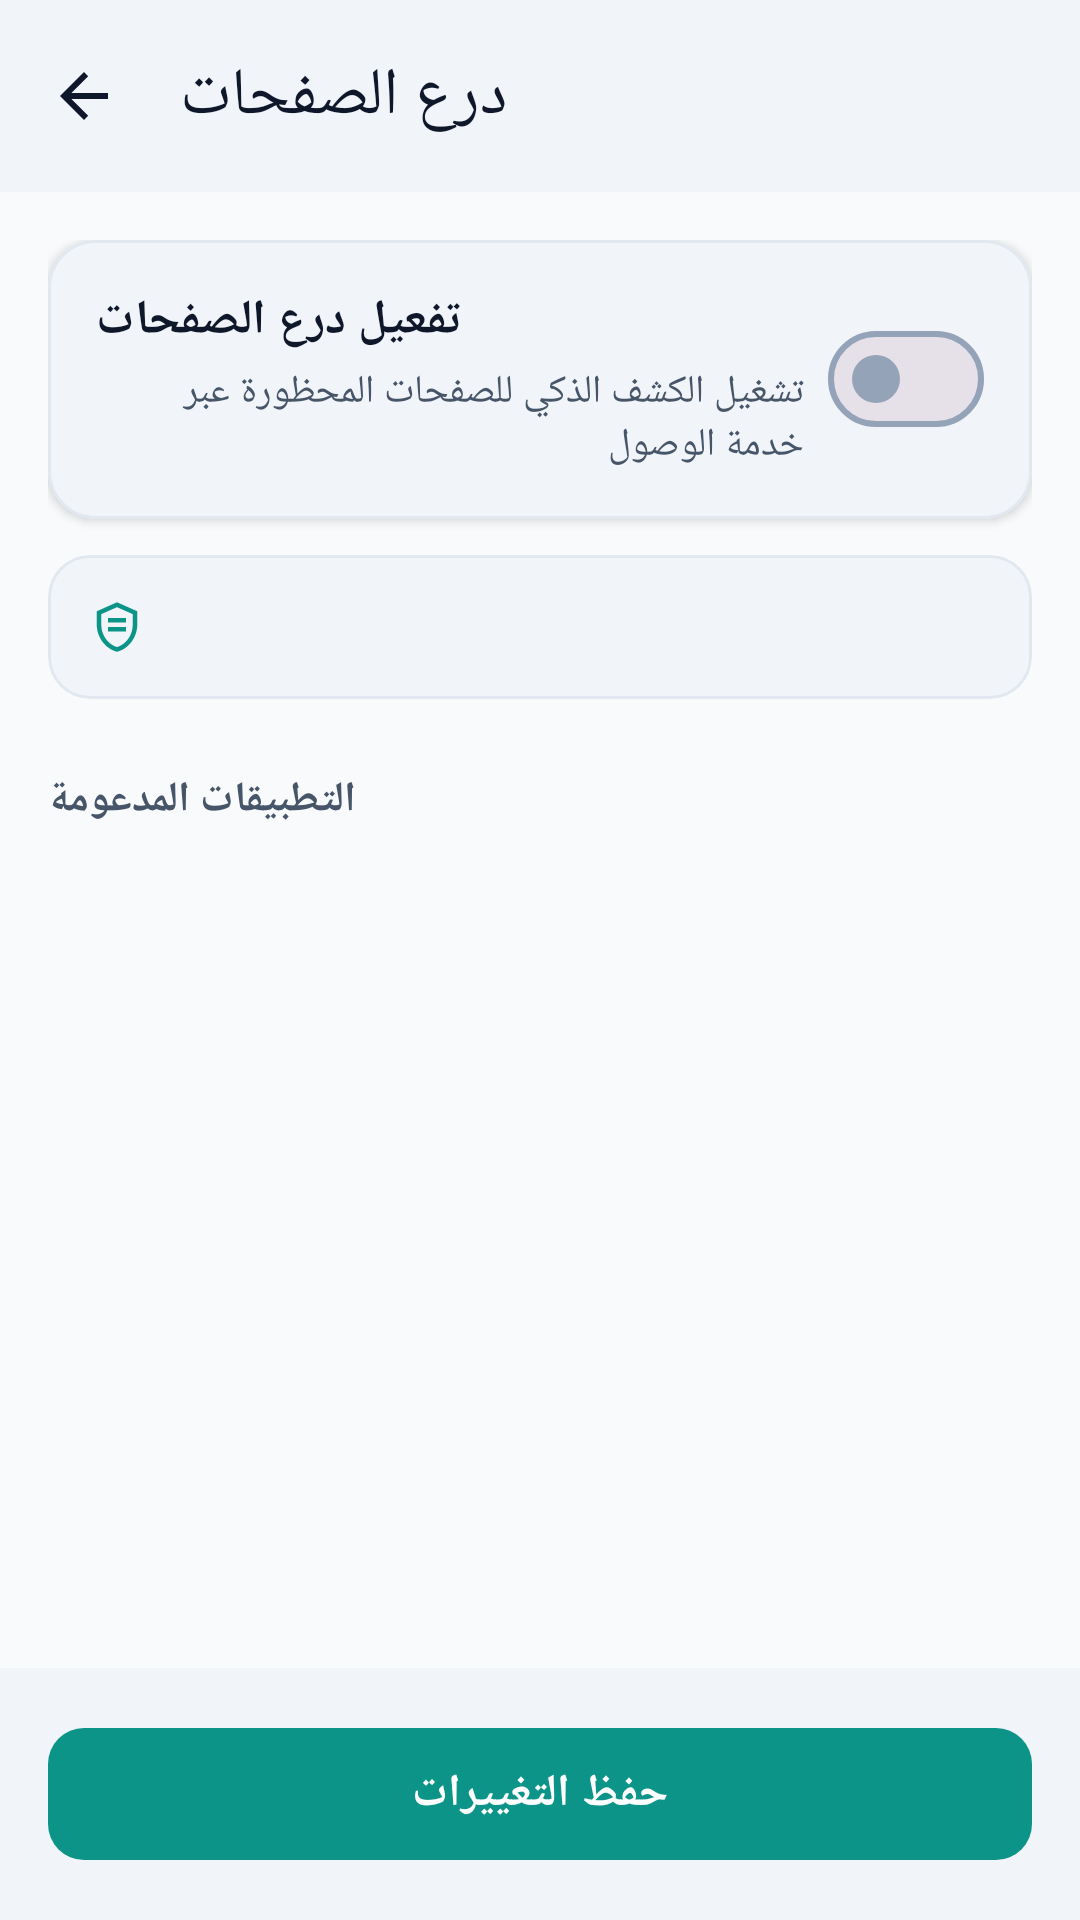

Icons on this 1080px×1920px Android screen, each with the point to tap as [x,y]:
shield page: [117,627]
